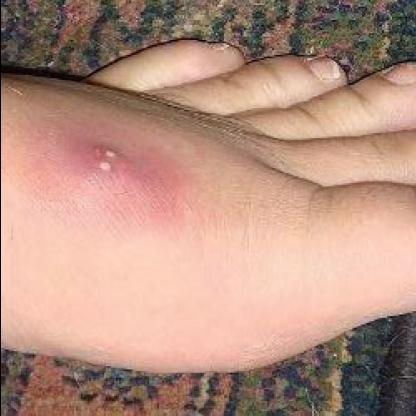Fire ant: (82, 134, 128, 184)
